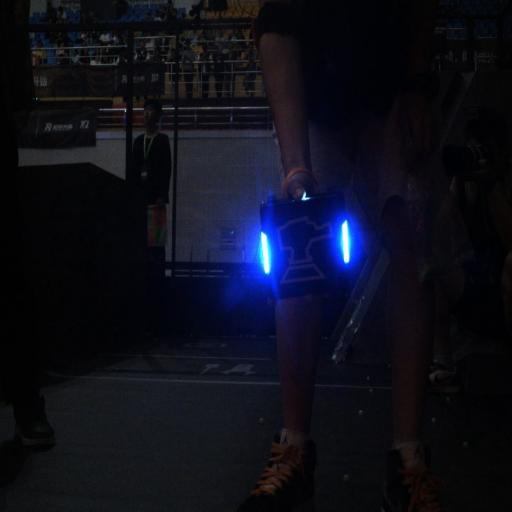target: (259, 205, 355, 299)
